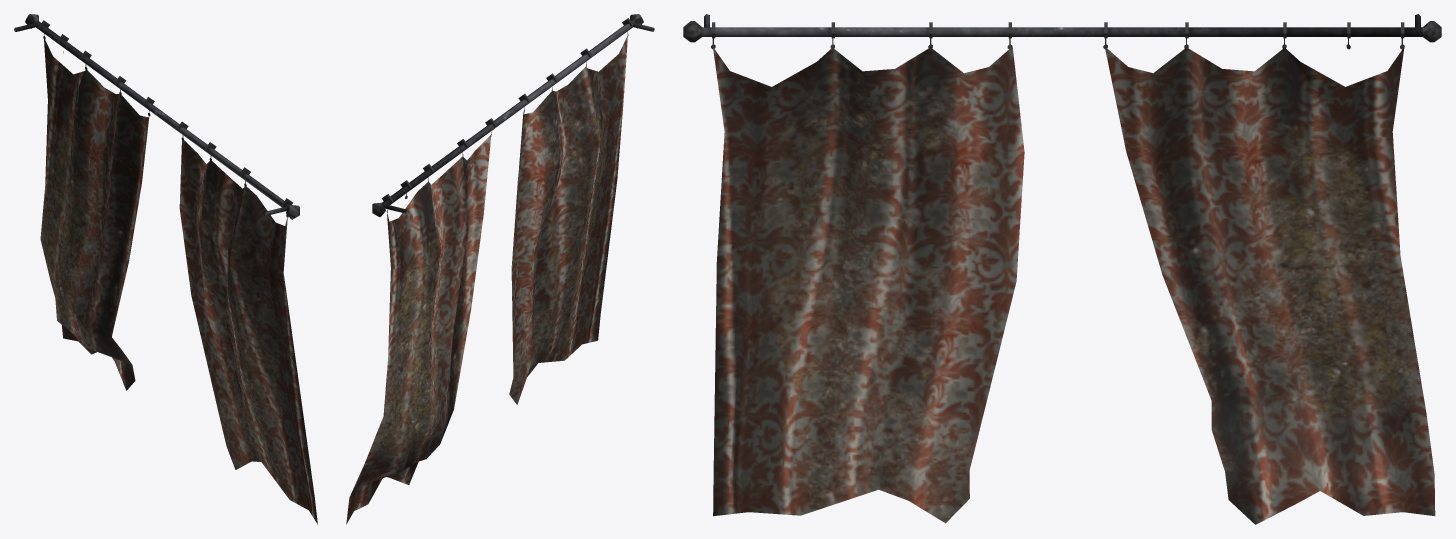
File: Double_ExpCurtainSet_T04.FBX
3 views of the same model, side by side, from view 1: azimuth 30°, elevation 25°; view 2: azimuth 150°, elevation 25°; view 3: azimuth 270°, elevation 25° (orthographic). The views are drawn at different scales.
Parts seen in each view (by area): view 1: Double_ExpCurtainSet_T04; view 2: Double_ExpCurtainSet_T04; view 3: Double_ExpCurtainSet_T04.
Boxes of the visible parts, x1=… form: Double_ExpCurtainSet_T04: x1=14, y1=14, x2=317, y2=524; Double_ExpCurtainSet_T04: x1=346, y1=14, x2=654, y2=524; Double_ExpCurtainSet_T04: x1=683, y1=14, x2=1441, y2=524.
Size of the model in its own units: 34.17 by 193 by 275.
